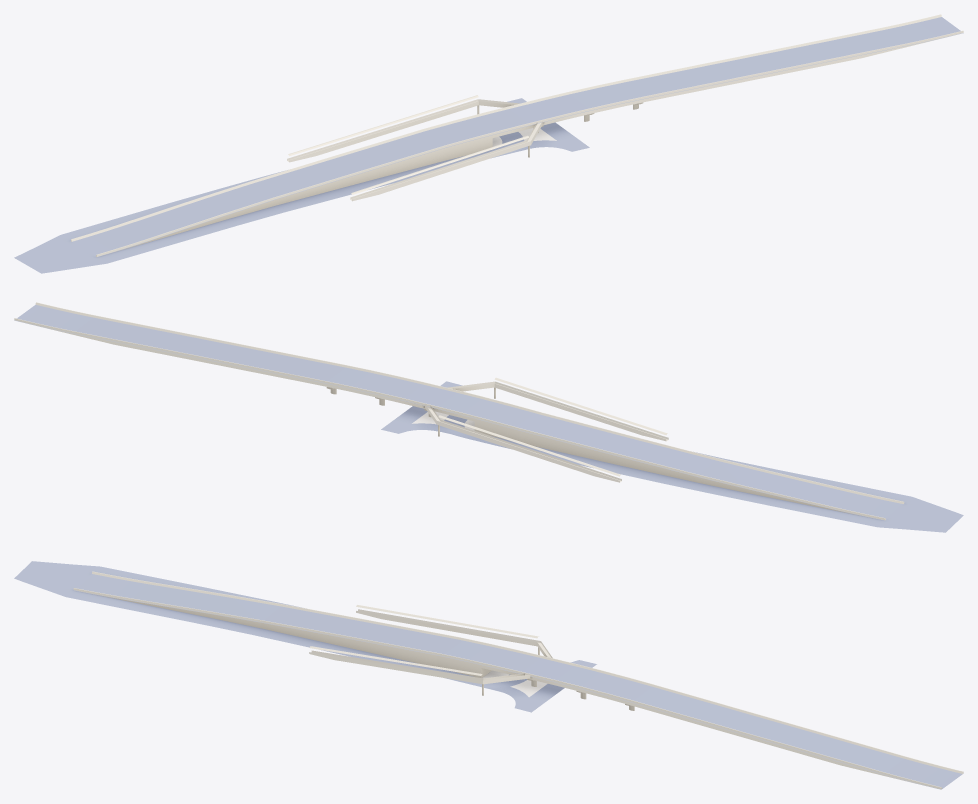
Rendered from ToleBi-Ormanov2.glb.
The picture shows the model from 3 angles, top to bottom: view 1: azimuth 30°, elevation 25°; view 2: azimuth 150°, elevation 25°; view 3: azimuth 330°, elevation 25°; orthographic projection. The views are drawn at different scales.
Visible parts, largest first — view 1: SketchUp.001, SketchUp.004, SketchUp.009; view 2: SketchUp.001, SketchUp.004, SketchUp.009; view 3: SketchUp.001, SketchUp.004, SketchUp.009.
Part boxes in pixels (bbox=[...]): SketchUp.001: bbox=[14, 17, 963, 273]; SketchUp.004: bbox=[115, 37, 944, 251]; SketchUp.009: bbox=[71, 14, 963, 256]; SketchUp.001: bbox=[14, 304, 963, 532]; SketchUp.004: bbox=[36, 325, 872, 518]; SketchUp.009: bbox=[14, 302, 904, 520]; SketchUp.001: bbox=[14, 561, 963, 789]; SketchUp.004: bbox=[92, 594, 916, 783]; SketchUp.009: bbox=[73, 571, 963, 789].
Size of the model in its own units: 482 by 10.62 by 60.17.
6 materials, 5 textured.
